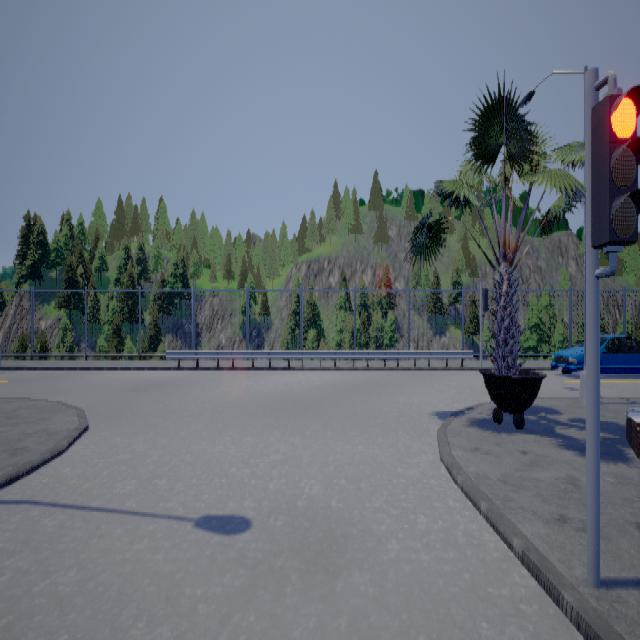red_light: (590, 69, 639, 278)
vehicle: (549, 332, 639, 372)
